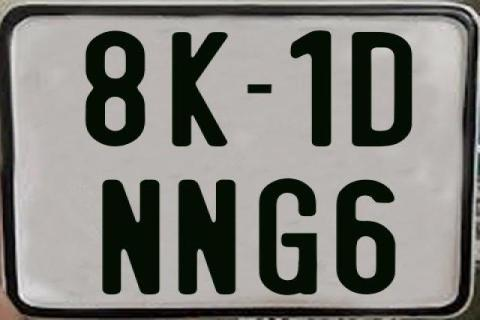0: (84, 29, 150, 150), (333, 179, 393, 296), (288, 28, 330, 146)
D: (350, 31, 415, 147)
G: (258, 177, 317, 293)
K: (172, 31, 232, 147)
N: (102, 179, 164, 296), (177, 178, 237, 294)
